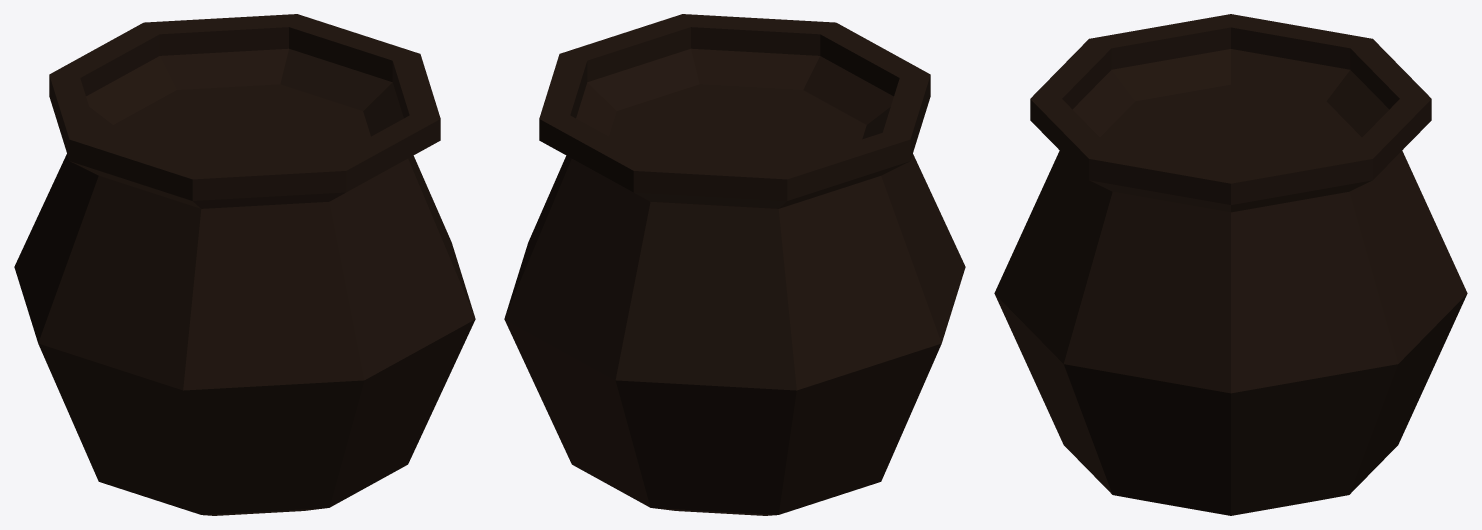
The model's file is pot.glb.
The picture shows the model from 3 angles, left to right: view 1: azimuth 30°, elevation 25°; view 2: azimuth 150°, elevation 25°; view 3: azimuth 270°, elevation 25°; orthographic projection.
Visible parts, largest first — view 1: Pot; view 2: Pot; view 3: Pot.
Part boxes in pixels (left/top/right/bottom): Pot: left=14, top=14, right=475, bottom=515; Pot: left=504, top=14, right=965, bottom=515; Pot: left=994, top=14, right=1467, bottom=515.
Bounding box in the file's own units: 2 × 1.71 × 2.
Materials: 1 (1 with a texture image).
